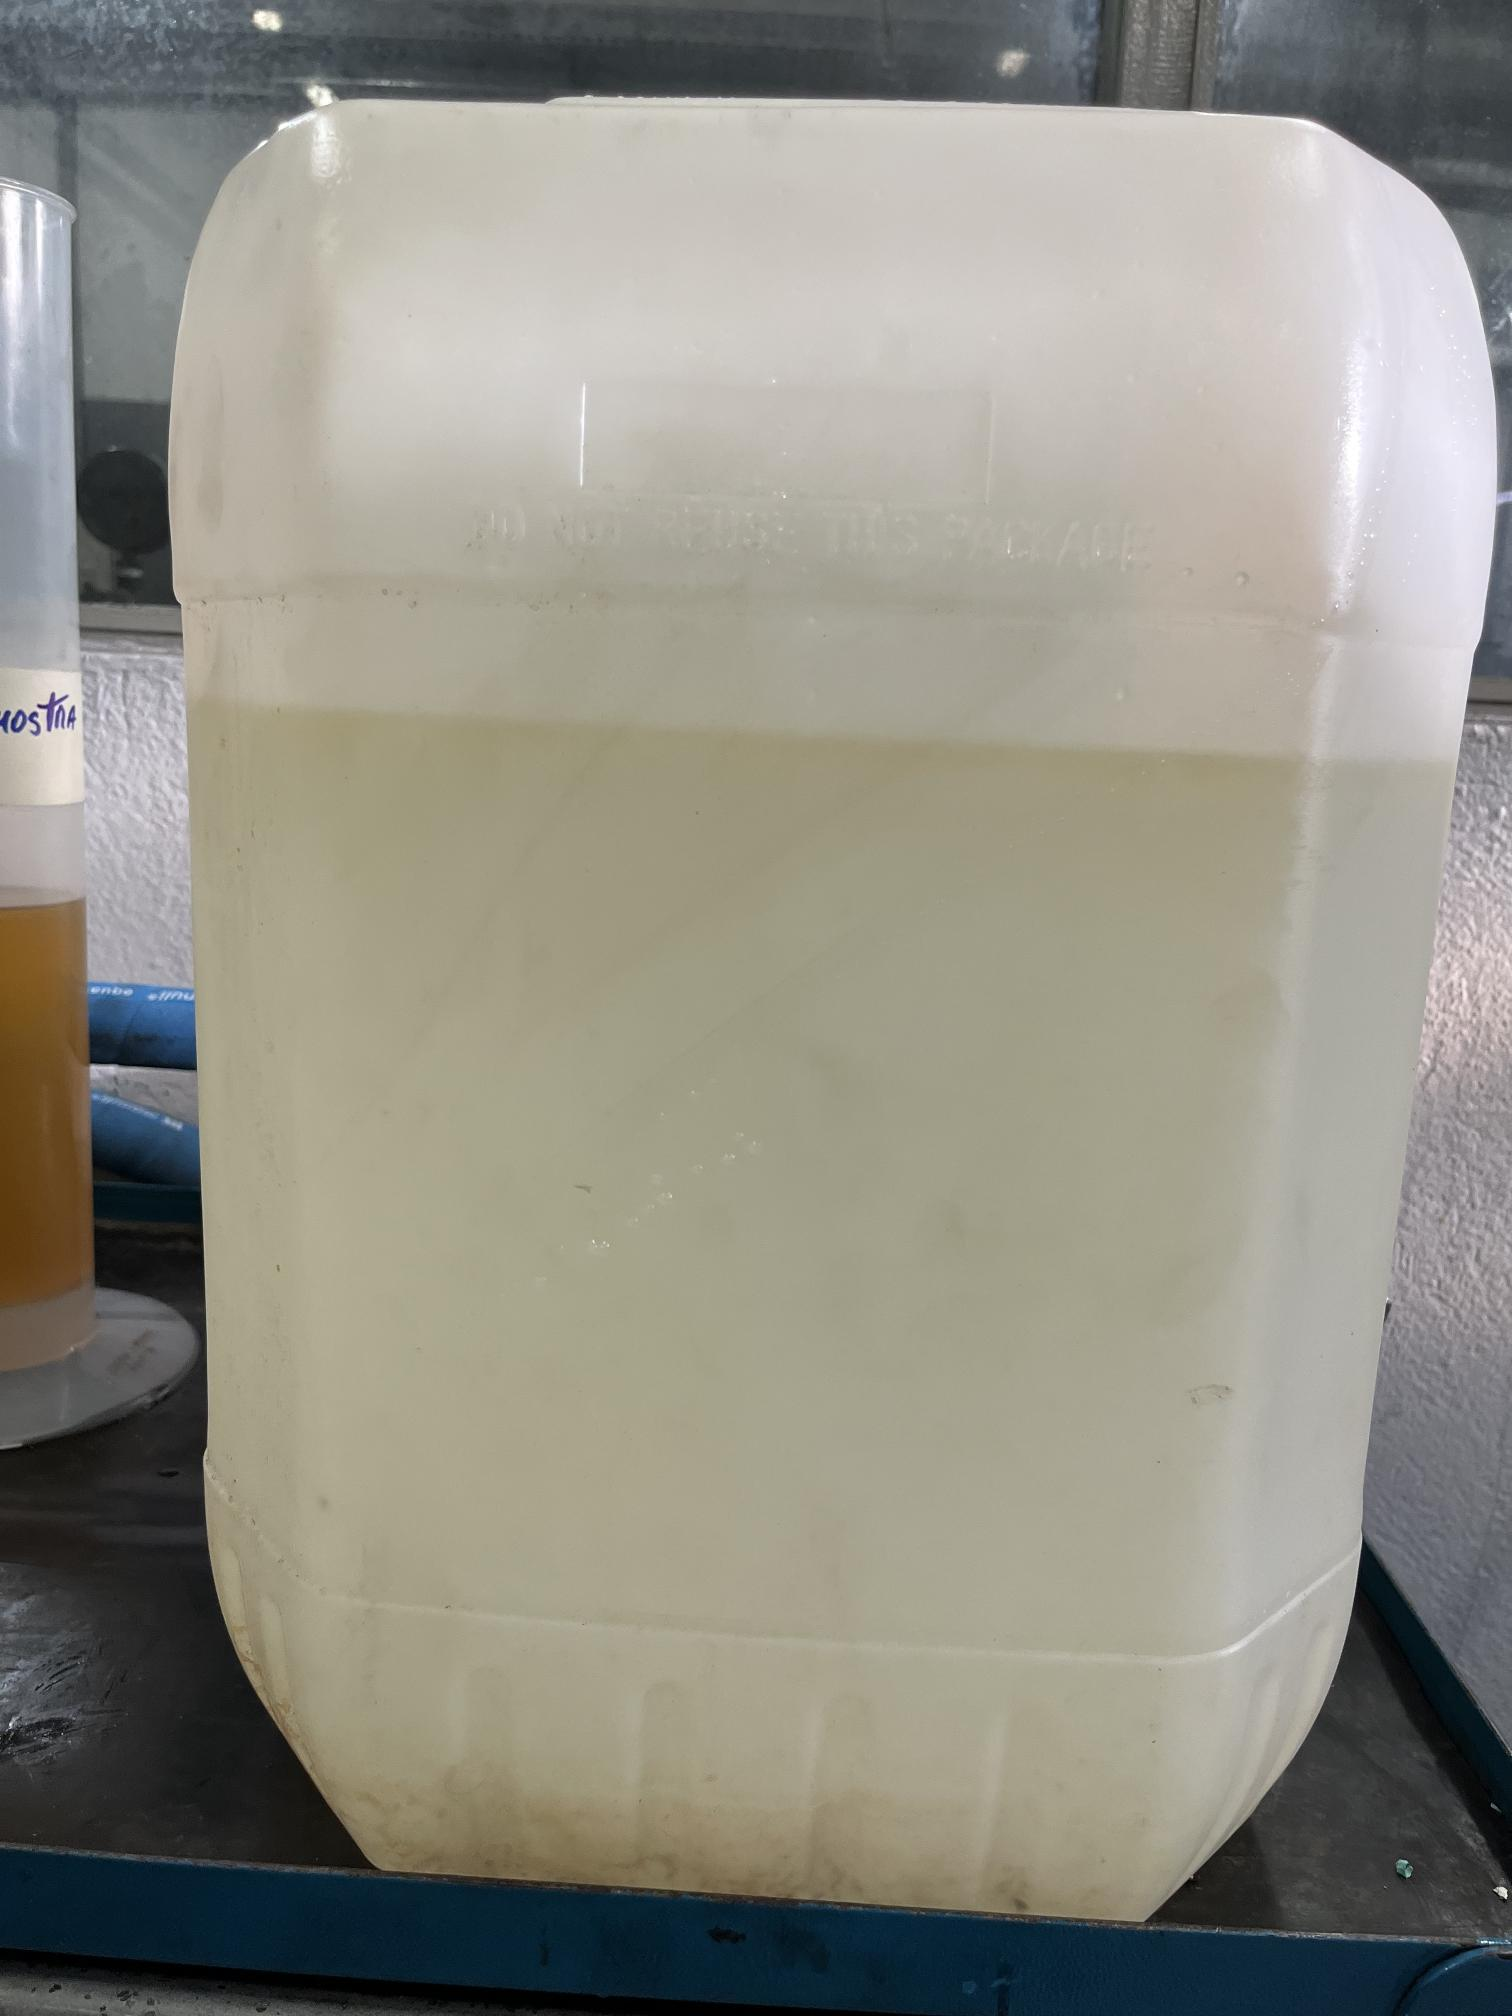Galao: (156, 75, 1420, 1865)
